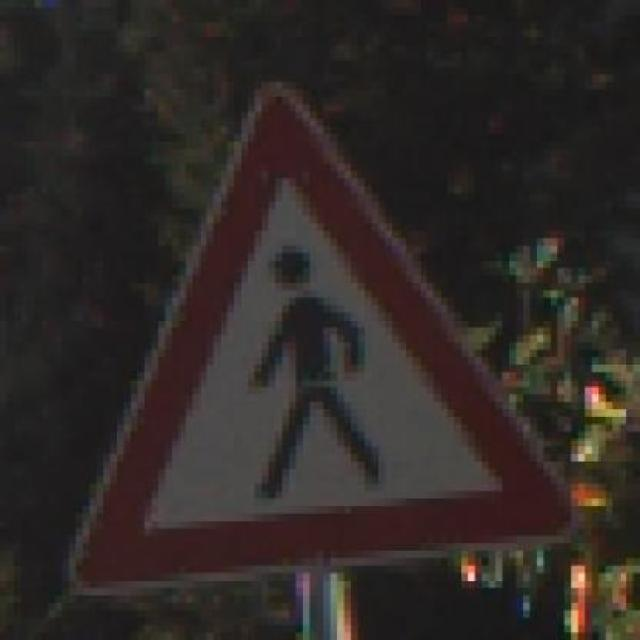Pedestrian Crossing: (56, 66, 578, 603)
